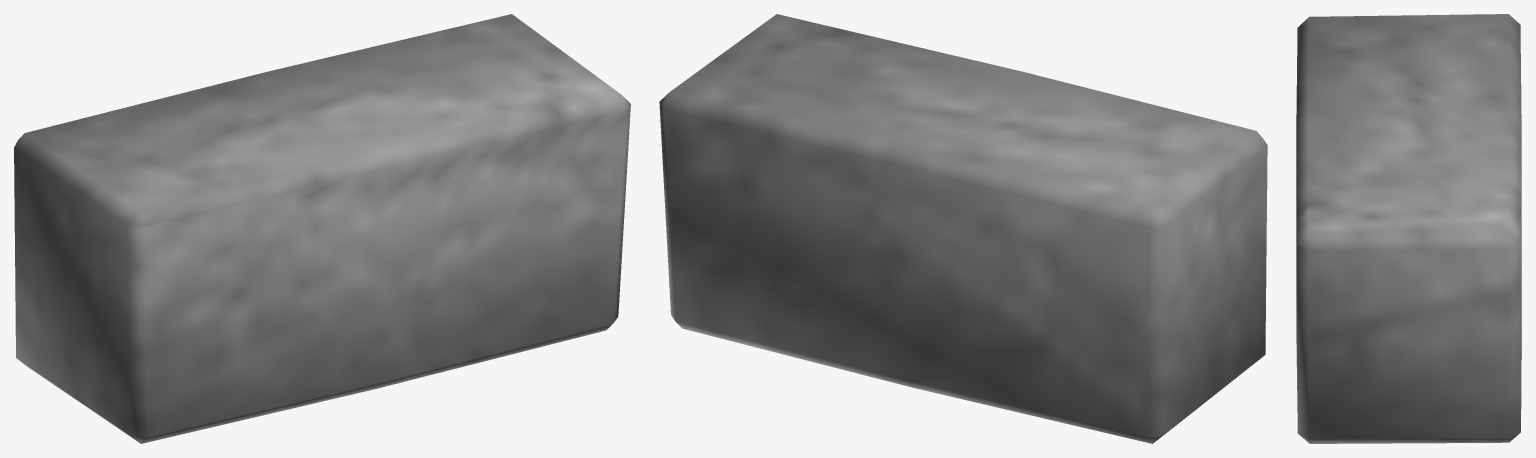
Rendered from Block02.fbx.
The picture shows the model from 3 angles, left to right: view 1: azimuth 30°, elevation 25°; view 2: azimuth 150°, elevation 25°; view 3: azimuth 270°, elevation 25°; orthographic projection. The views are drawn at different scales.
Visible parts, largest first — view 1: Block02_LOD0; view 2: Block02_LOD0; view 3: Block02_LOD0.
Boxes of the visible parts, bbox=[...] form: Block02_LOD0: bbox=[14, 14, 630, 443]; Block02_LOD0: bbox=[659, 14, 1267, 443]; Block02_LOD0: bbox=[1296, 14, 1521, 443].
Size of what is drawn, in the model's own units: 0.5195 by 0.2316 by 0.2157.
